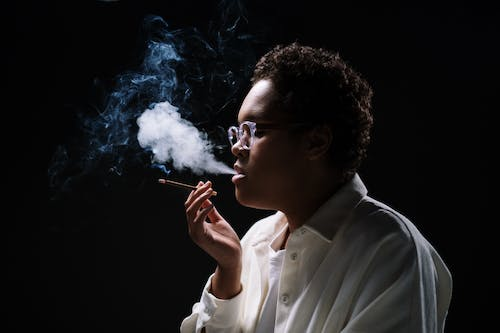cigarette: (158, 178, 220, 196)
